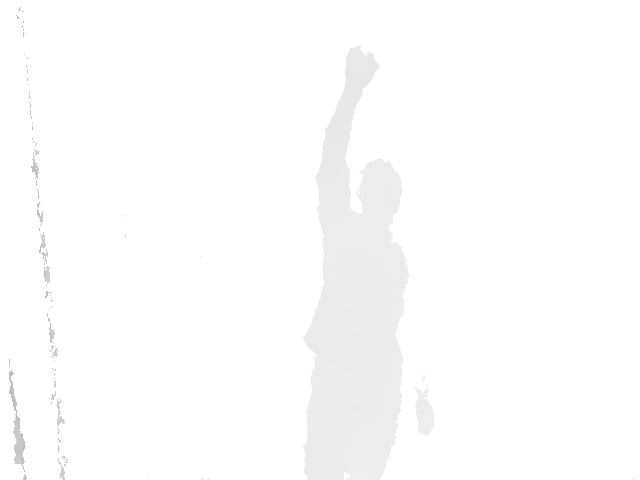hand: (344, 46, 381, 90)
hand_down: (414, 390, 435, 436)
head: (358, 158, 403, 227)
person: (303, 45, 436, 480)
